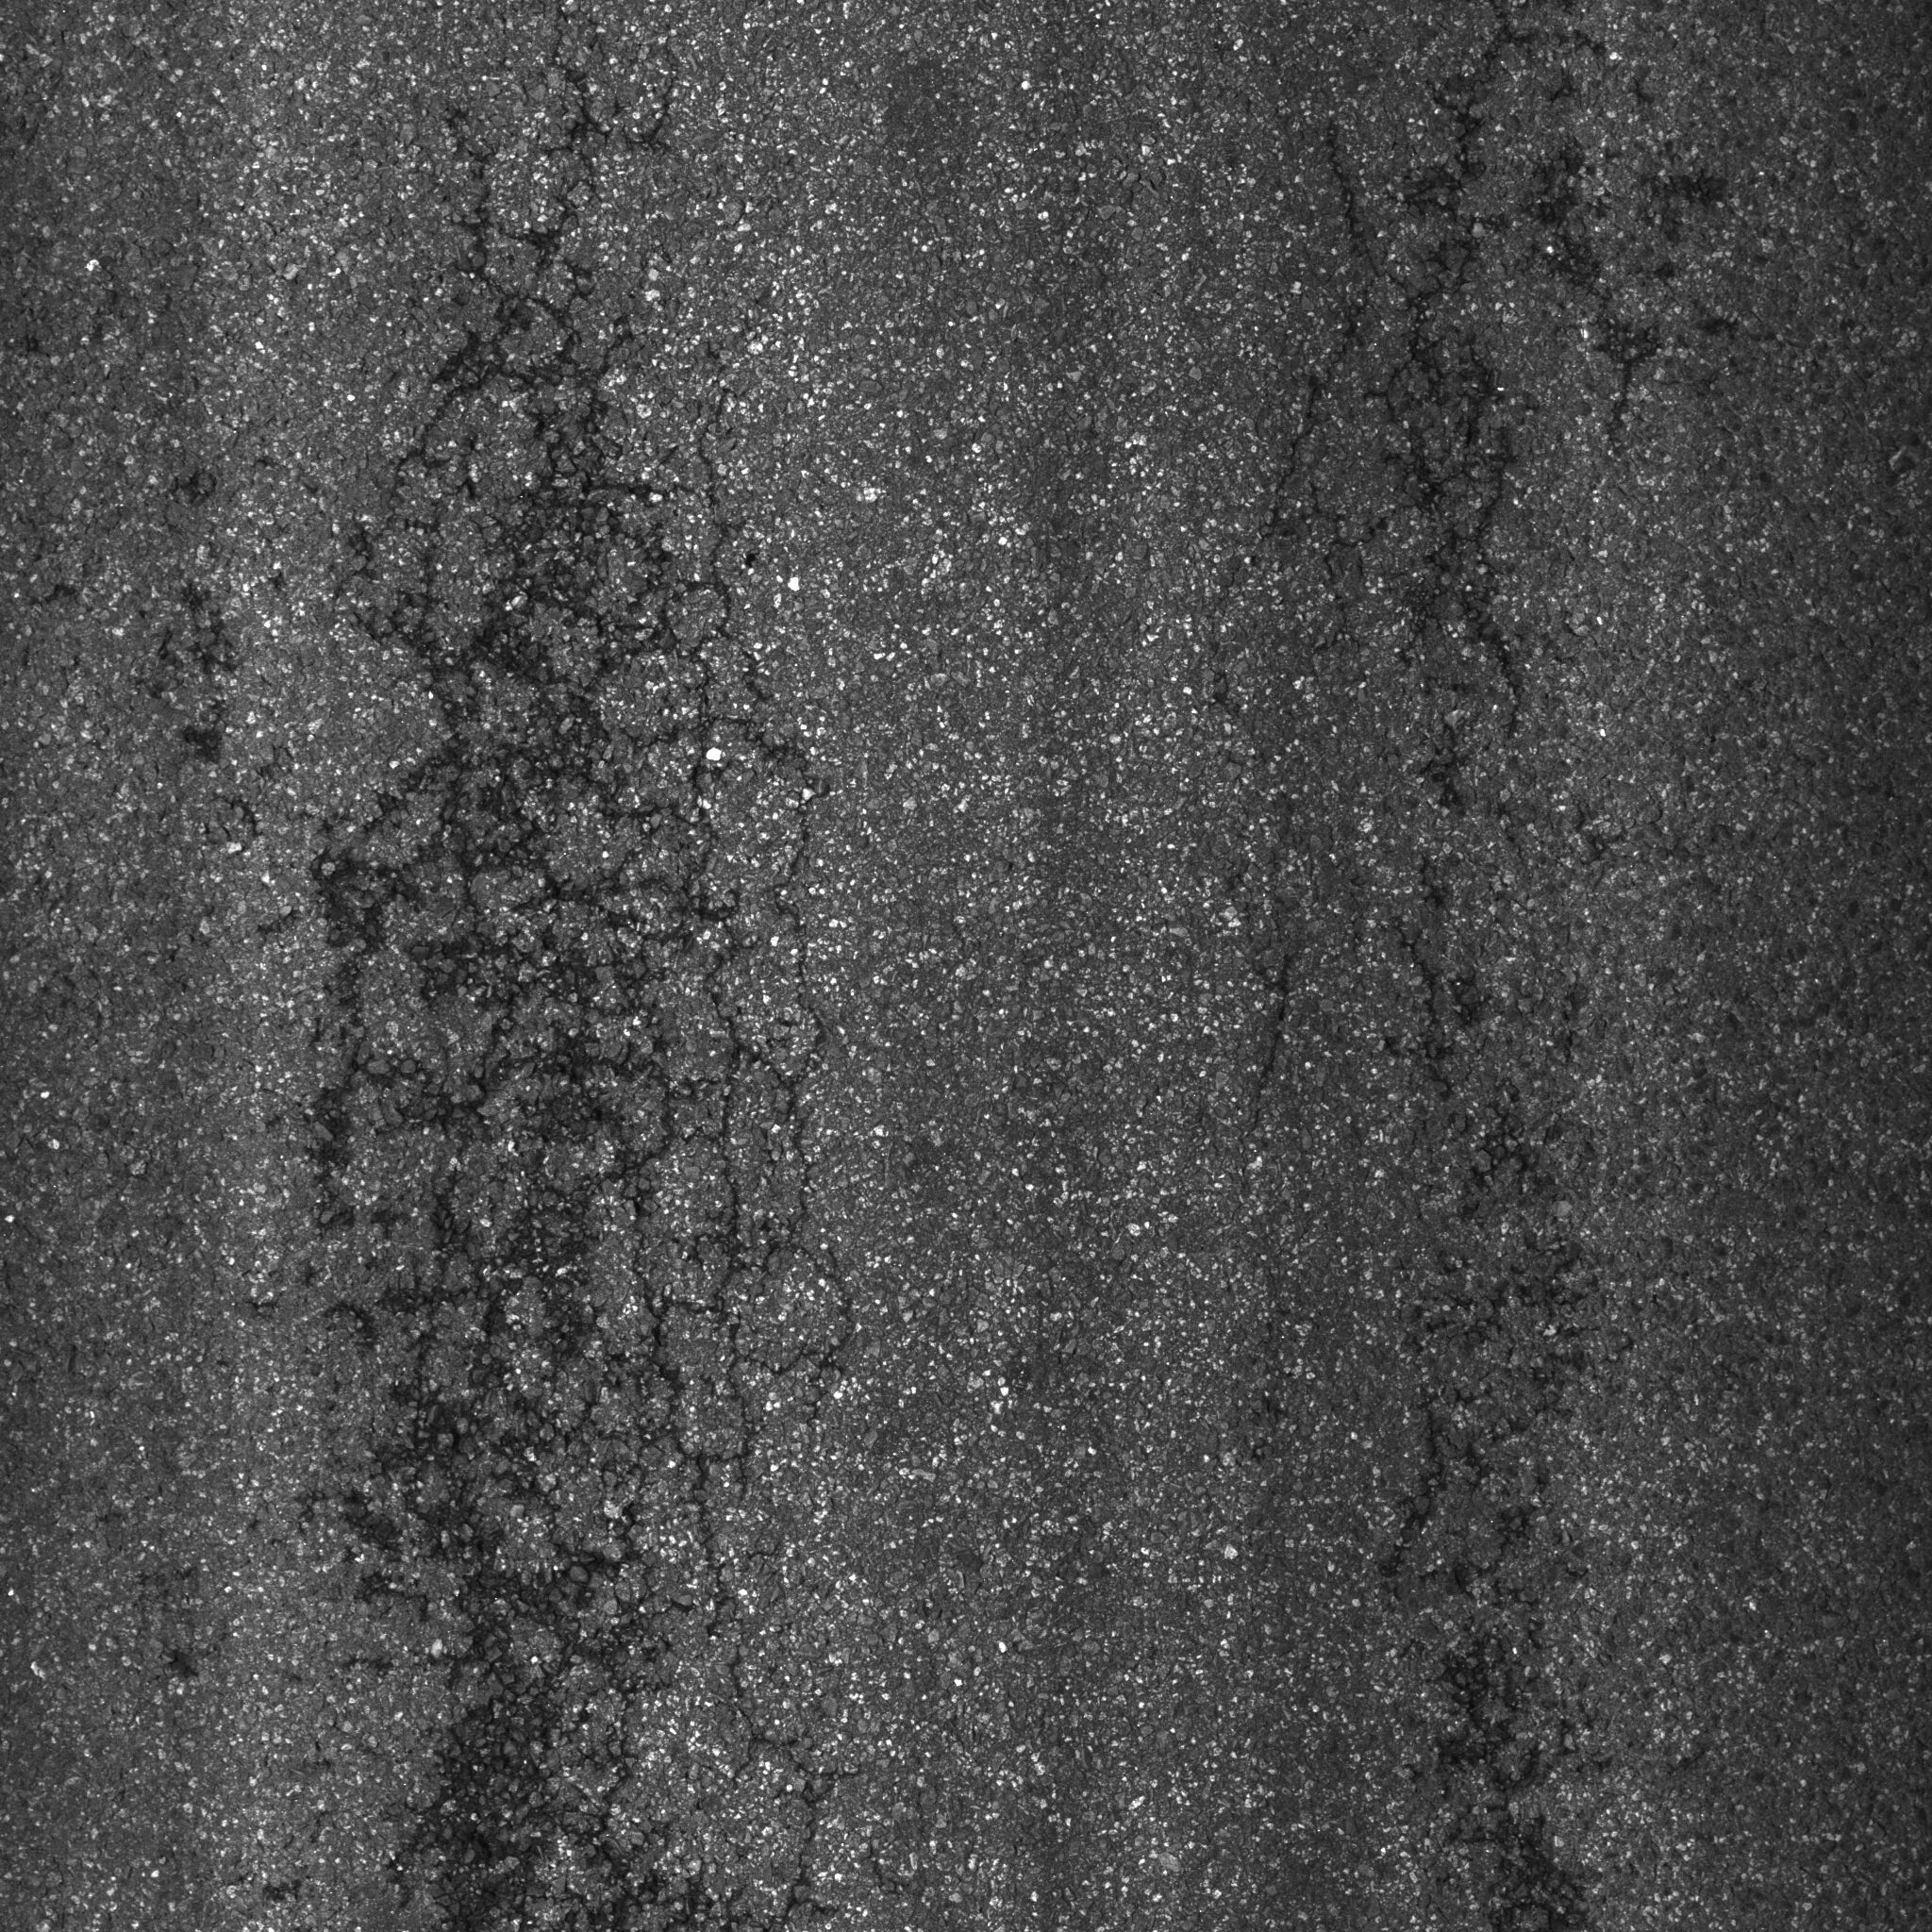alligator: (241, 50, 897, 1932), (1168, 12, 1753, 1932)
